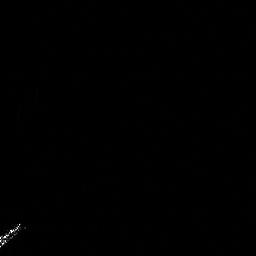ship: (1, 220, 29, 251)
